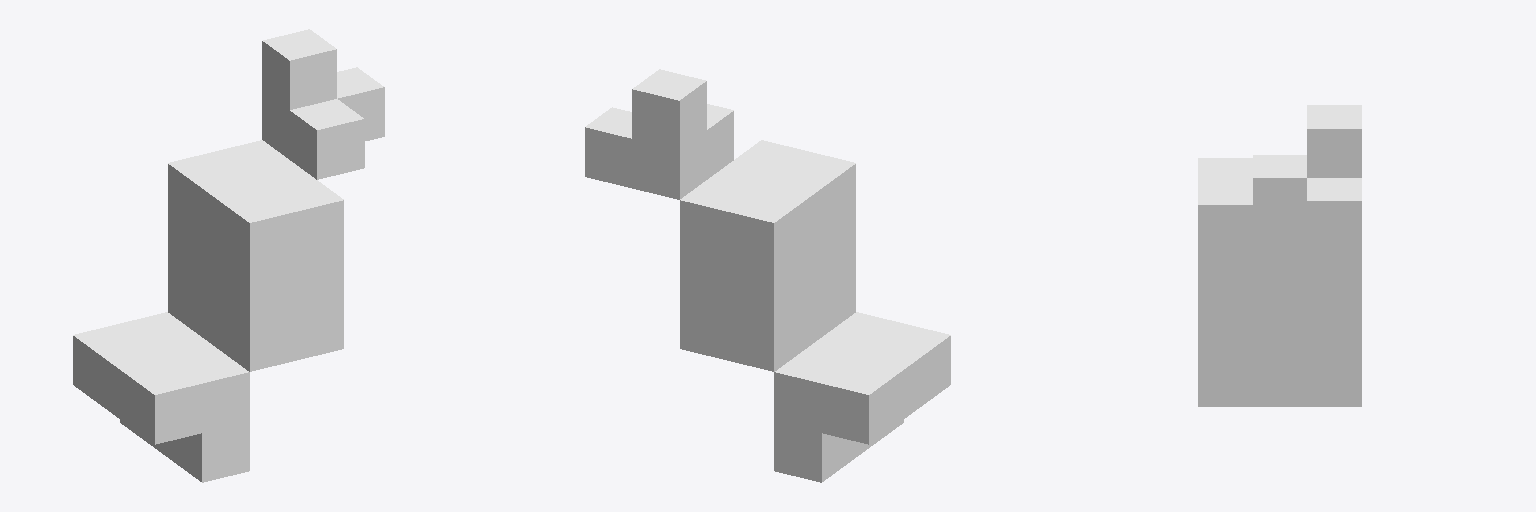
File: bombeman-0-legl.obj
3 views of the same model, side by side, from view 1: azimuth 30°, elevation 25°; view 2: azimuth 150°, elevation 25°; view 3: azimuth 270°, elevation 25° (orthographic).
Parts seen in each view (by area): view 1: legl; view 2: legl; view 3: legl.
Part boxes in pixels (bbox=[...]): legl: bbox=[73, 29, 384, 482]; legl: bbox=[585, 69, 950, 482]; legl: bbox=[1198, 105, 1361, 406].
Bounding box in the file's own units: 0.6 × 0.7 × 0.3.